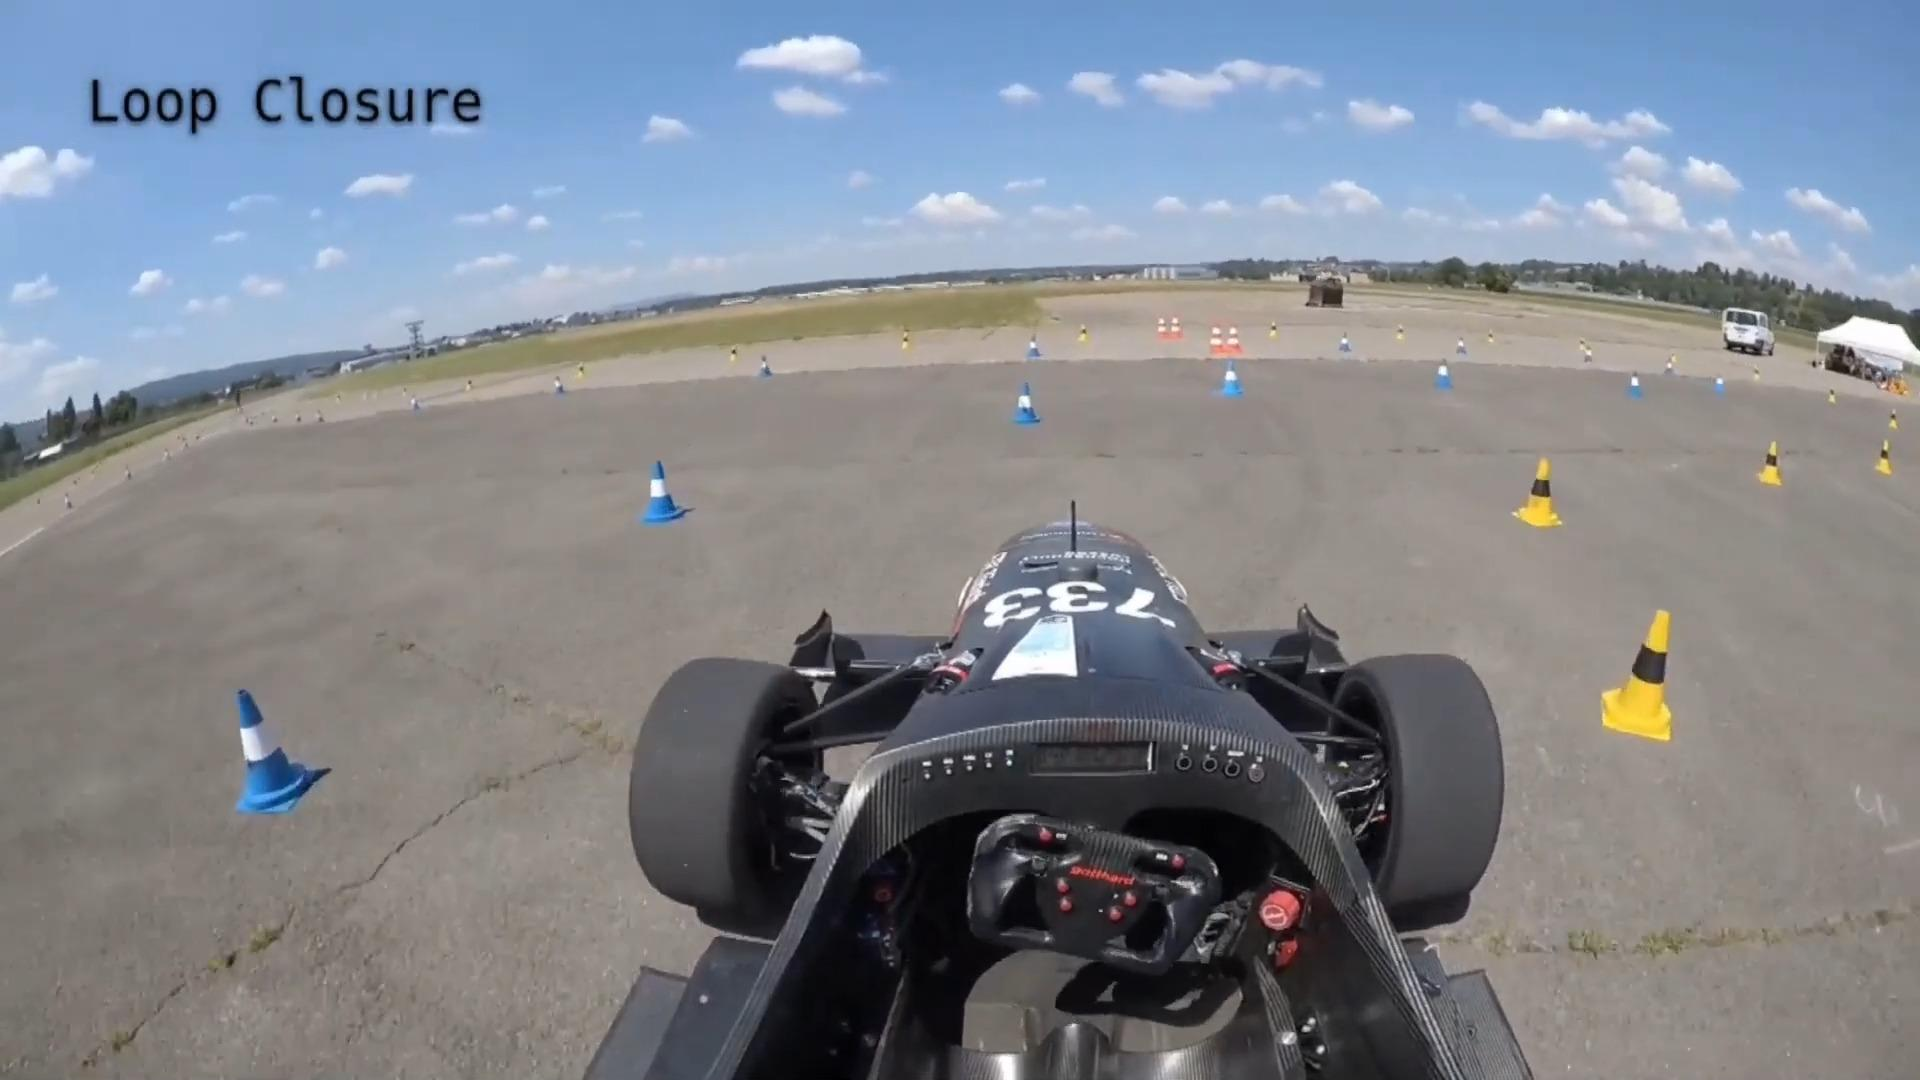blue_cone: (216, 680, 330, 827), (640, 454, 690, 526), (1010, 382, 1040, 431), (1217, 361, 1244, 401), (1429, 352, 1452, 389), (1625, 365, 1644, 401), (1332, 326, 1352, 355), (1021, 332, 1039, 359), (1712, 372, 1729, 398), (757, 352, 773, 380), (549, 375, 566, 397), (1581, 344, 1594, 368), (1663, 357, 1676, 380), (1456, 331, 1466, 359), (407, 396, 421, 417)
large_orange_cone: (1207, 318, 1225, 359), (1225, 320, 1244, 356), (1153, 314, 1168, 344), (1171, 313, 1187, 342)
yellow_cone: (1586, 600, 1680, 752), (1514, 452, 1564, 533), (1749, 438, 1780, 489), (1869, 439, 1891, 483), (891, 327, 916, 355), (1073, 318, 1092, 344), (1884, 409, 1902, 435), (1749, 364, 1764, 386), (1267, 315, 1279, 340), (1395, 320, 1408, 342), (1485, 328, 1498, 348), (574, 361, 587, 381), (1828, 386, 1838, 410), (729, 345, 740, 367), (1576, 334, 1586, 353), (1667, 348, 1677, 364)
